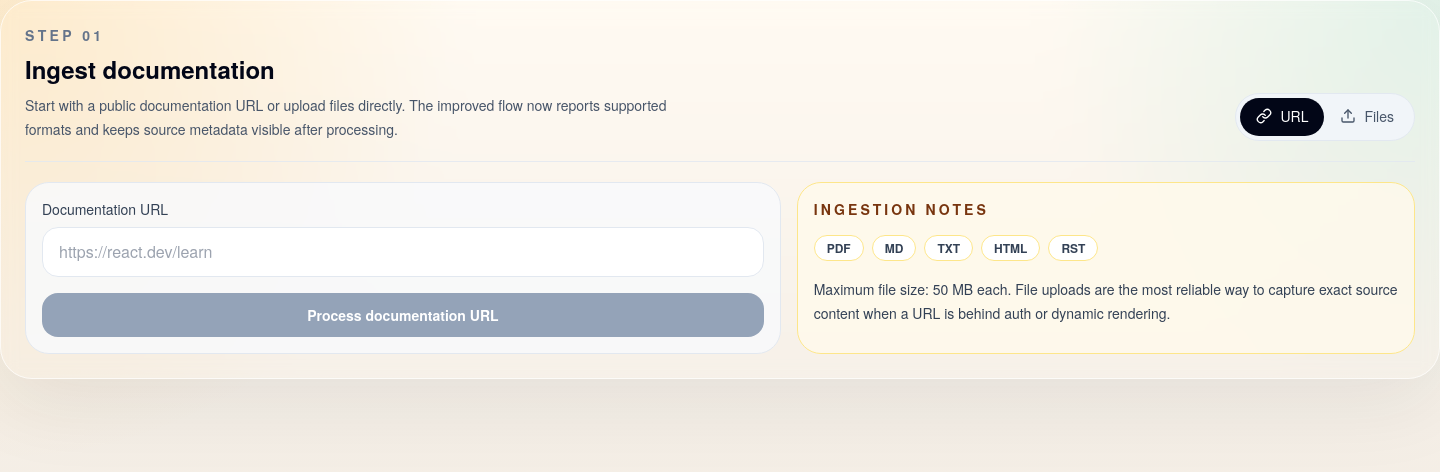
DocumentUpload Component › Status Messages › should show success message
Type "https://example.com" into the field labelled "Documentation URL".
click(403, 252); type("https://example.com")  # box x1=42 y1=227 x2=764 y2=277
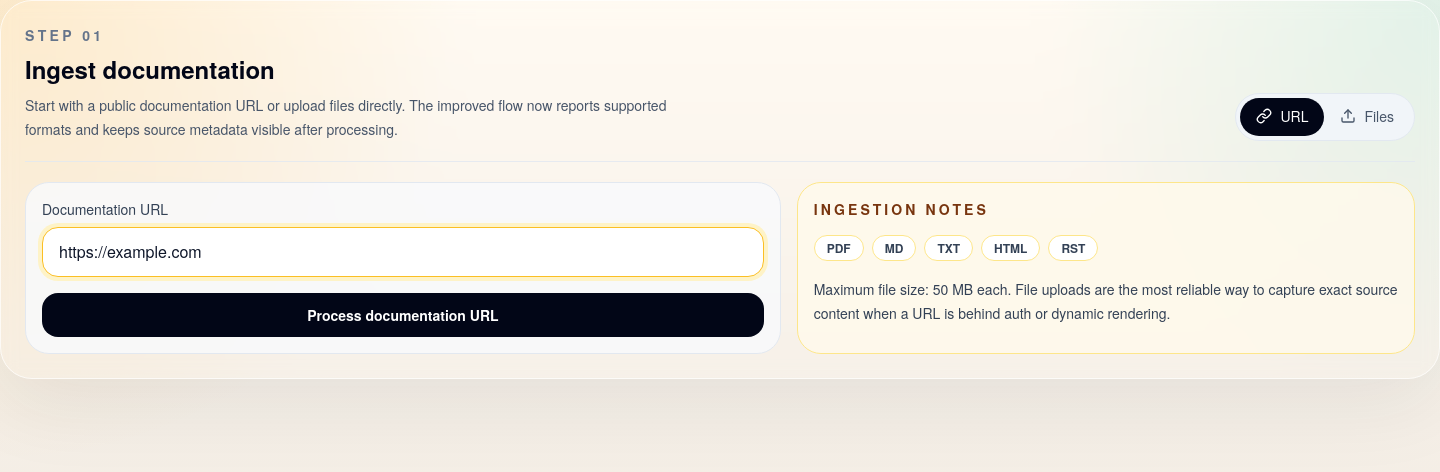
Click the button "Process documentation URL".
click(403, 315)  # box x1=42 y1=293 x2=764 y2=337
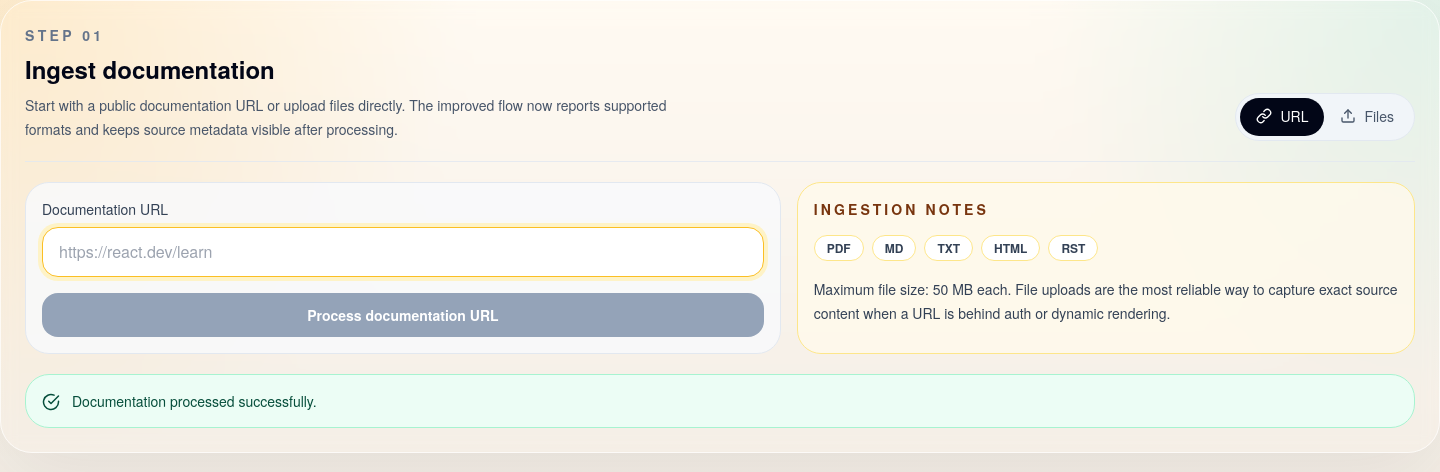
Result: the text "Documentation processed successfully." is shown at x1=72 y1=391 x2=317 y2=411
